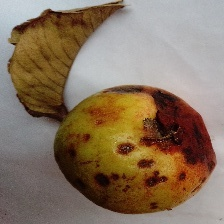guava: (38, 26, 208, 178)
